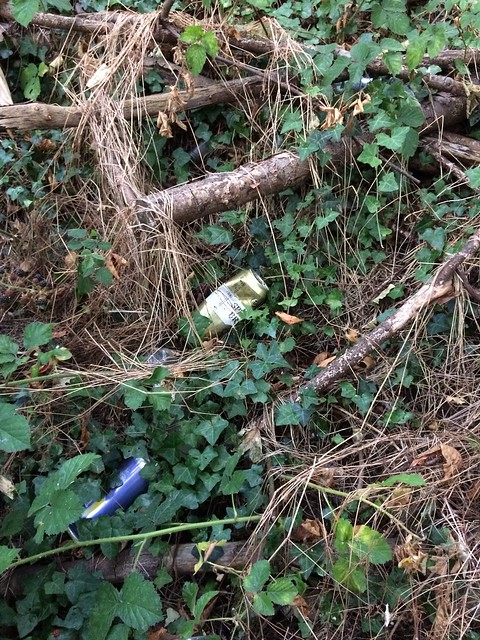can: (188, 256, 278, 347), (77, 449, 153, 528)
